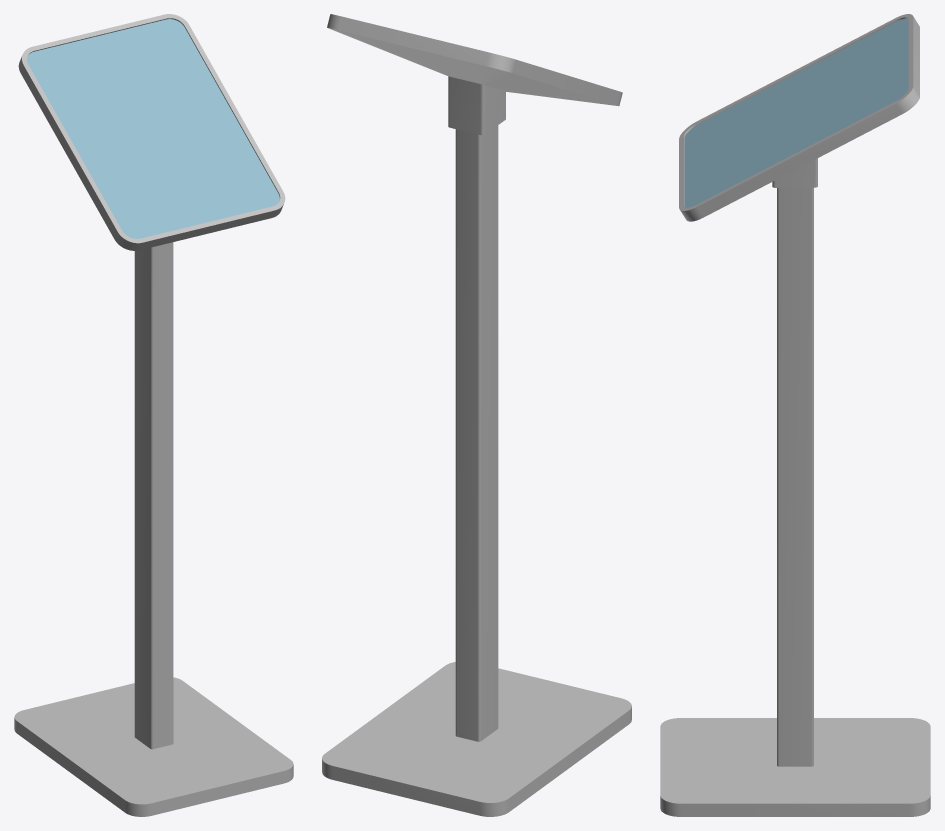
File: Information Pedestal.fbx
The picture shows the model from 3 angles, left to right: view 1: azimuth 30°, elevation 25°; view 2: azimuth 150°, elevation 25°; view 3: azimuth 270°, elevation 25°; orthographic projection. The views are drawn at different scales.
Parts seen in each view (by area): view 1: Pedestal, Info; view 2: Pedestal; view 3: Pedestal, Info.
Boxes of the visible parts, x1,y1,x2,y2 form: Pedestal: (14,14,293,816); Info: (27,19,279,238); Pedestal: (322,14,631,816); Pedestal: (660,14,930,816); Info: (684,18,908,207).
Bounding box in the file's own units: 30 × 118 × 40.
